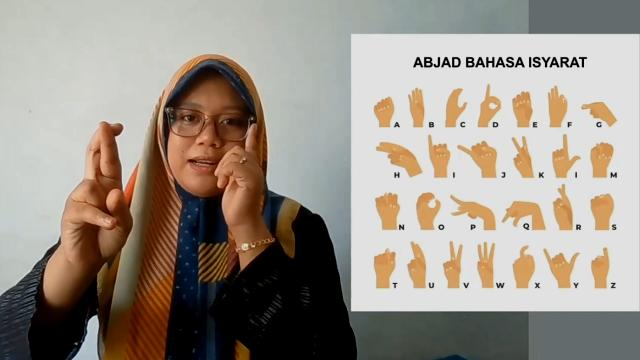R: (57, 114, 137, 266)
